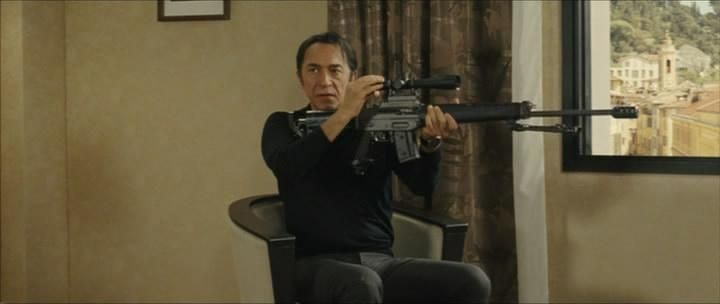gun: (295, 77, 641, 164)
